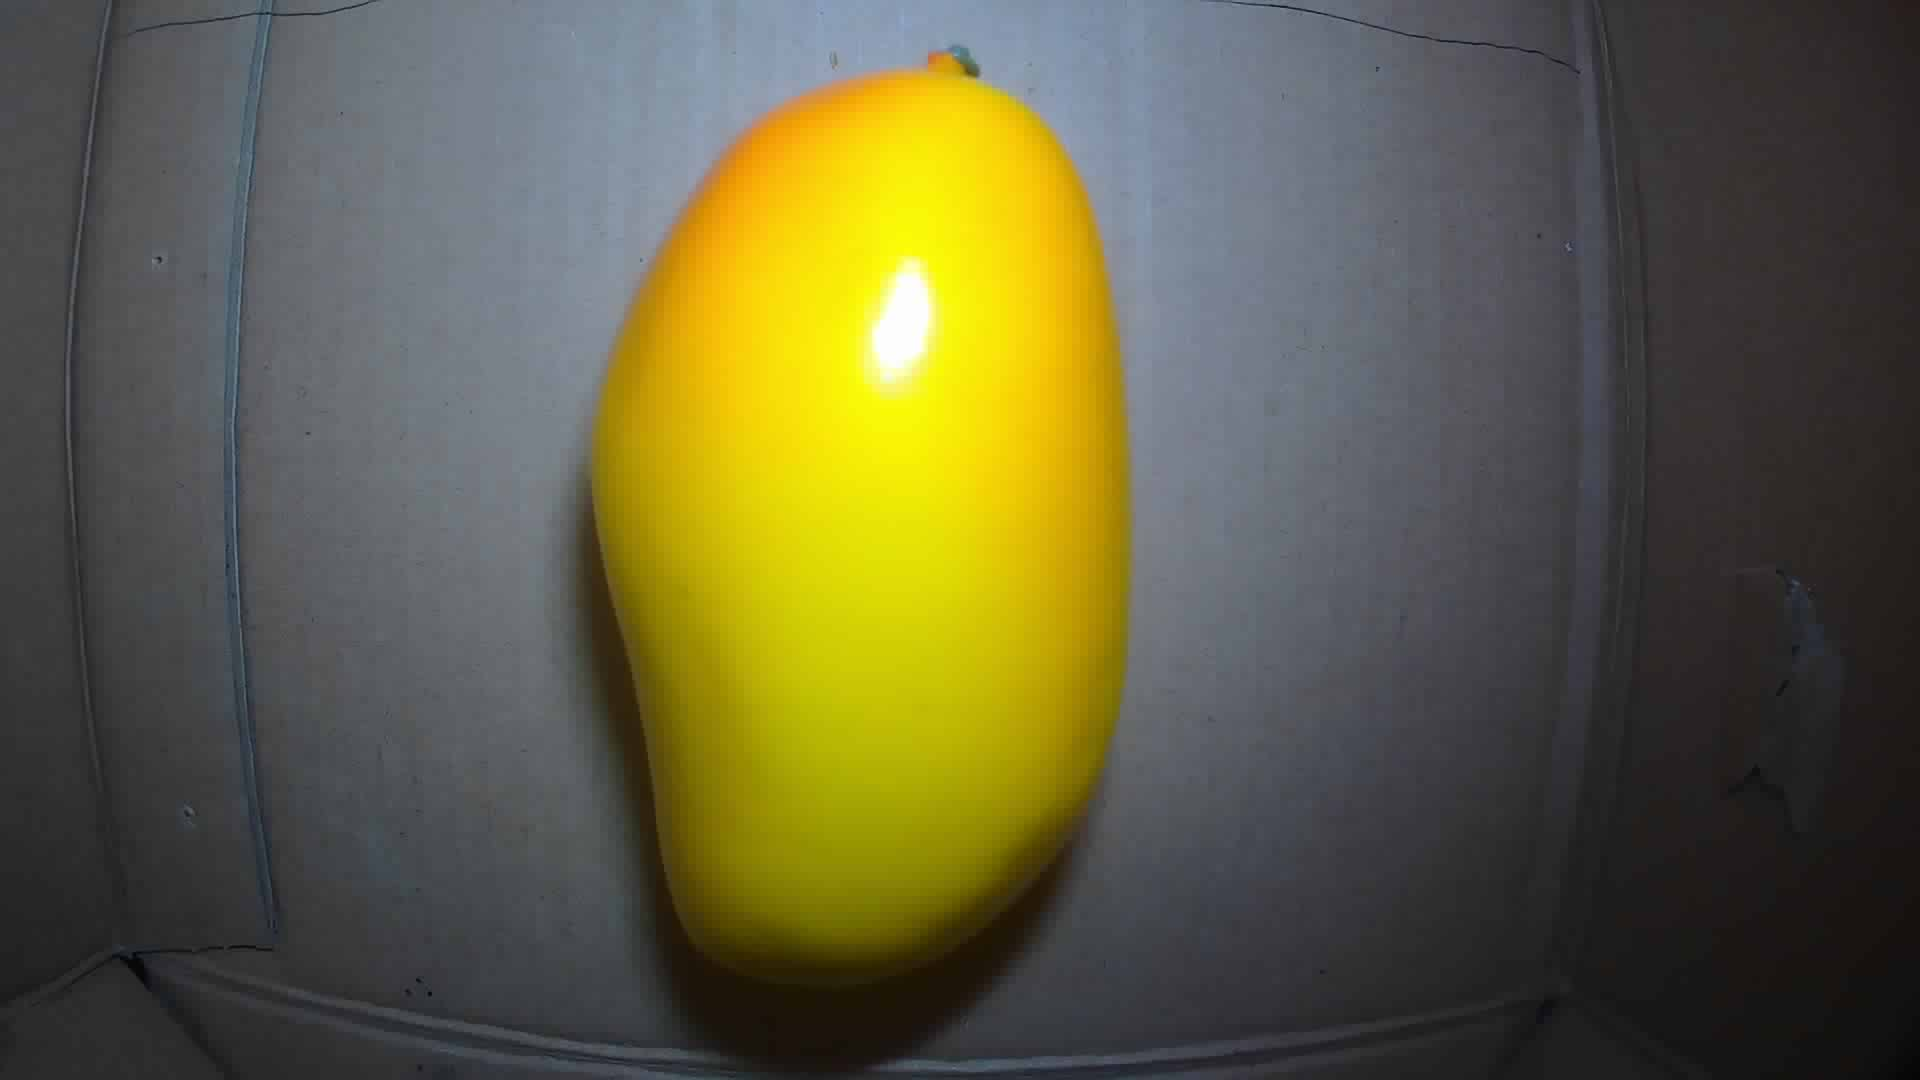mango: (588, 36, 1130, 993)
